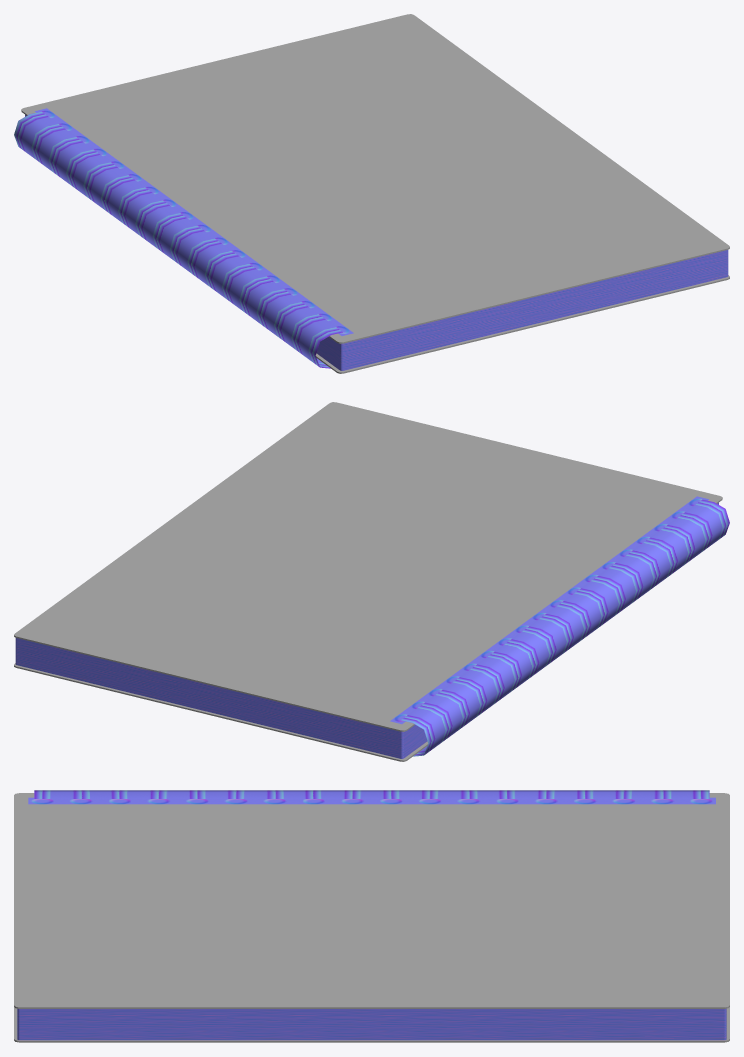
File: notebook.fbx
3 renders of one model, top to bottom at view 1: azimuth 30°, elevation 25°; view 2: azimuth 150°, elevation 25°; view 3: azimuth 270°, elevation 25°, orthographic. The views are drawn at different scales.
Parts seen in each view (by area): view 1: notebook; view 2: notebook; view 3: notebook.
Part boxes in pixels (<box>): notebook: <box>14,14,729,373</box>; notebook: <box>14,402,729,761</box>; notebook: <box>14,790,729,1042</box>.
Bounding box in the file's own units: 22.01 × 1.74 × 29.98.
